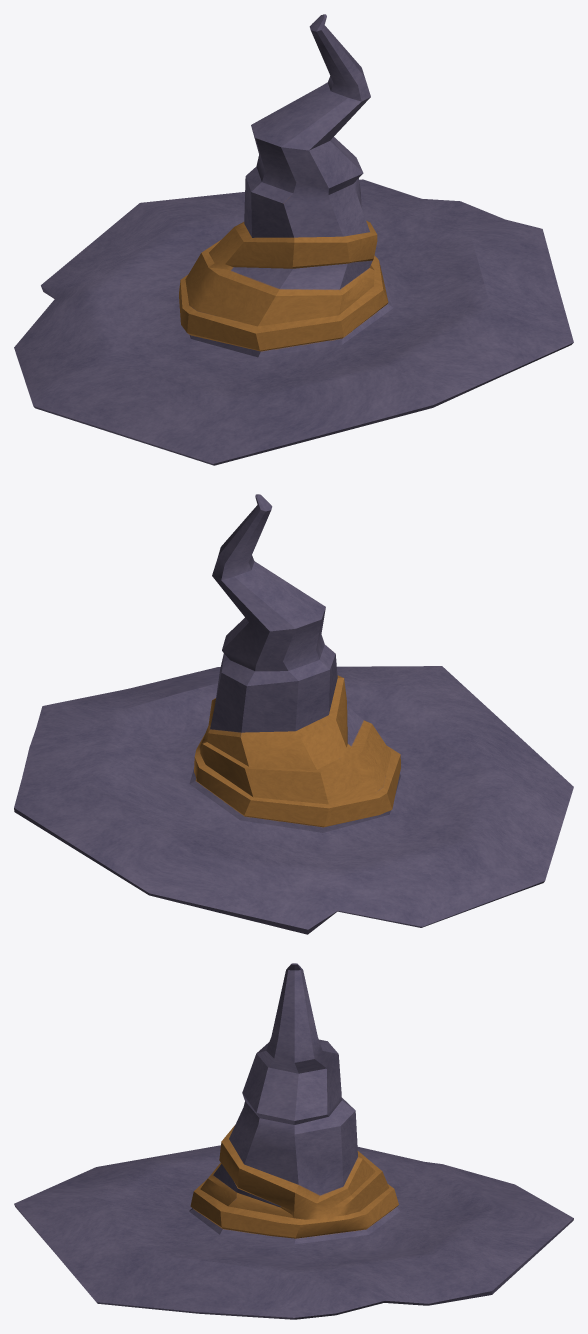
Rendered from hat.obj.
The picture shows the model from 3 angles, top to bottom: view 1: azimuth 30°, elevation 25°; view 2: azimuth 150°, elevation 25°; view 3: azimuth 270°, elevation 25°; orthographic projection. The views are drawn at different scales.
Visible parts, largest first — view 1: hat; view 2: hat; view 3: hat.
Part boxes in pixels (left/top/right/bottom): hat: left=14, top=14, right=573, bottom=465; hat: left=14, top=494, right=573, bottom=934; hat: left=14, top=963, right=573, bottom=1319.
Bounding box in the file's own units: 9.36 × 5.78 × 9.4.
